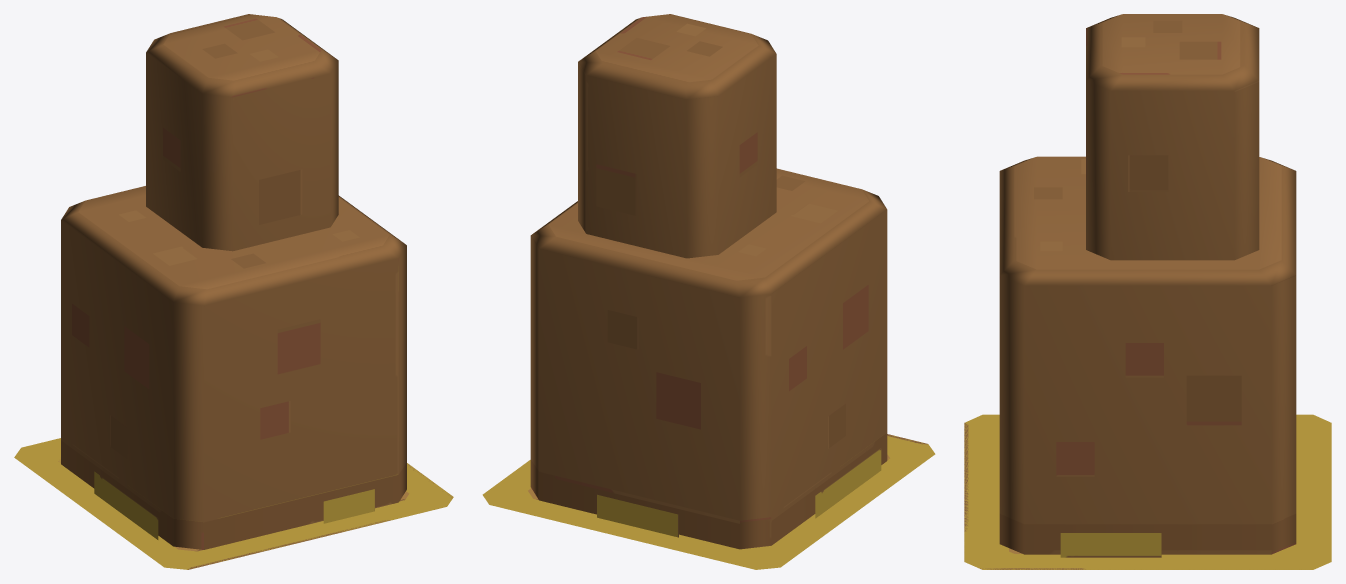
The model's file is B_mountain1_rock00.fbx.
3 views of the same model, side by side, from view 1: azimuth 30°, elevation 25°; view 2: azimuth 150°, elevation 25°; view 3: azimuth 270°, elevation 25° (orthographic). The views are drawn at different scales.
Parts seen in each view (by area): view 1: model 1, model; view 2: model 1, model; view 3: model 1, model.
Boxes of the visible parts, bbox=[...] form: model 1: bbox=[15, 14, 452, 569]; model: bbox=[14, 438, 453, 569]; model 1: bbox=[484, 14, 934, 569]; model: bbox=[483, 434, 935, 569]; model 1: bbox=[964, 14, 1331, 569]; model: bbox=[964, 414, 1331, 569].
Size of the model in its own units: 1.86 by 2.59 by 1.86.
Materials: 1 (1 with a texture image).
